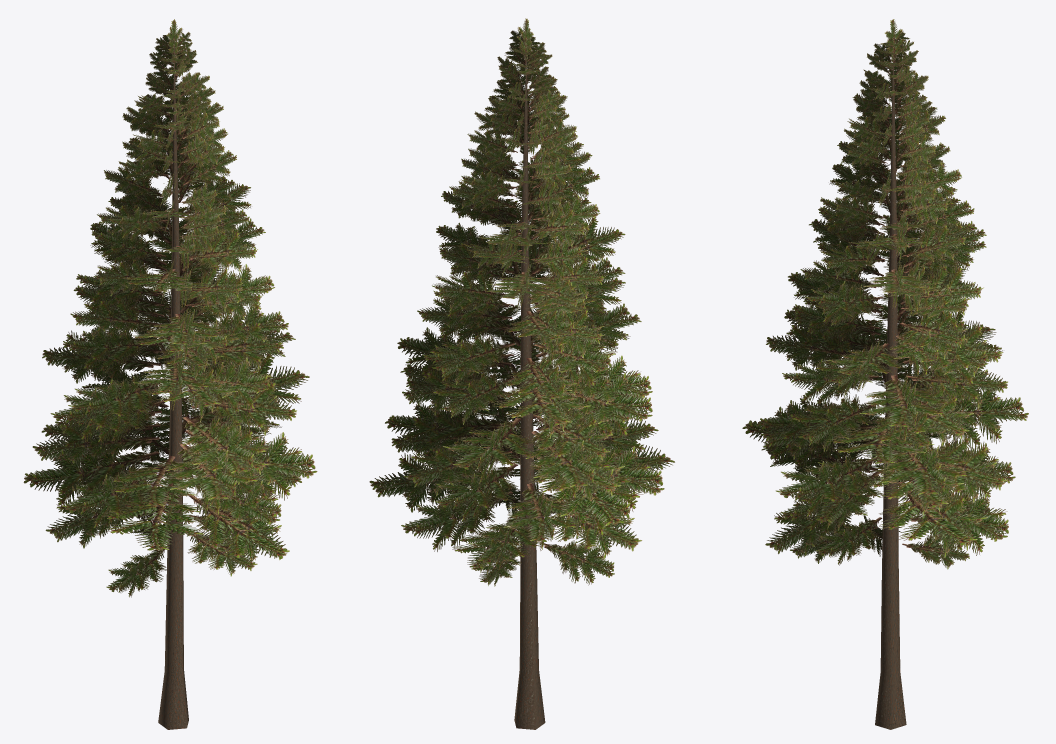
The model's file is fir_tall_lod2.gltf.
The picture shows the model from 3 angles, left to right: view 1: azimuth 30°, elevation 25°; view 2: azimuth 150°, elevation 25°; view 3: azimuth 270°, elevation 25°; orthographic projection.
Visible parts, largest first — view 1: fir_tall_LOD2; view 2: fir_tall_LOD2; view 3: fir_tall_LOD2.
Part boxes in pixels (x1=…): fir_tall_LOD2: x1=23, y1=19, x2=317, y2=729; fir_tall_LOD2: x1=369, y1=18, x2=674, y2=729; fir_tall_LOD2: x1=742, y1=19, x2=1028, y2=729.
Size of the model in its own units: 13.59 by 30.6 by 12.3.
2 materials, 2 textured.
